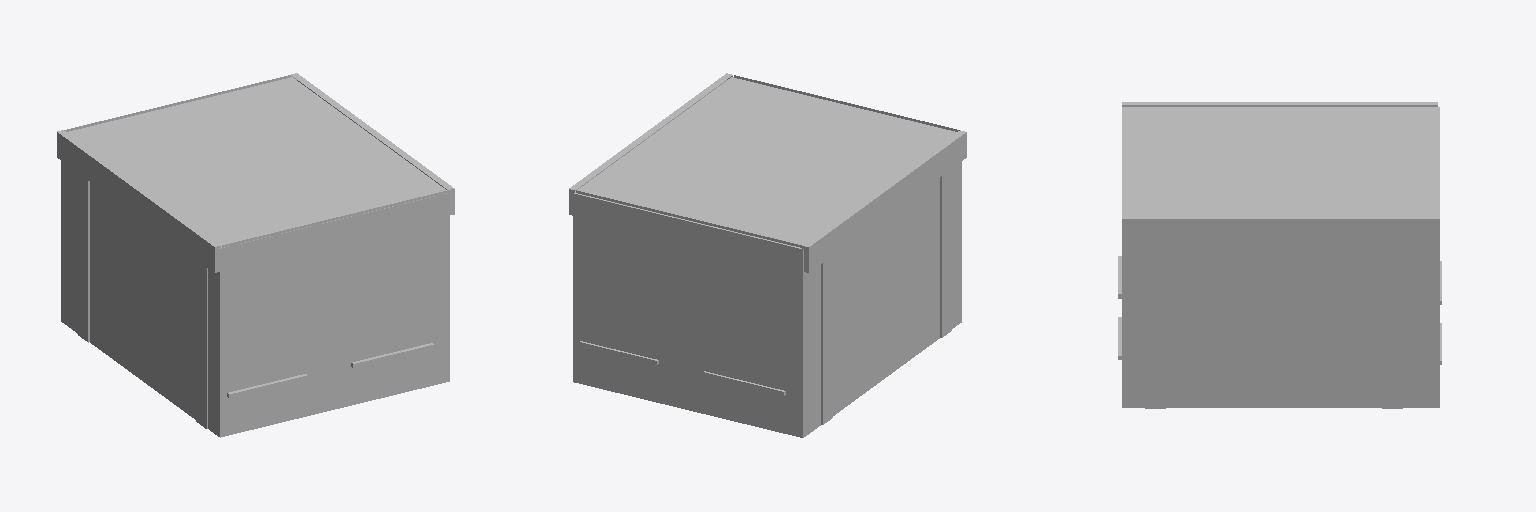
The model's file is Building5.obj.
The picture shows the model from 3 angles: view 1: azimuth 30°, elevation 25°; view 2: azimuth 150°, elevation 25°; view 3: azimuth 270°, elevation 25°; orthographic projection.
Parts seen in each view (by area): view 1: Building5_-col, TCom_Shops0220_S, TCom_Shops0148_S, TCom_Shops0148_S.001; view 2: Building5_-col, TCom_Shops0220_S, TCom_Shops0148_S.001, TCom_Shops0148_S; view 3: Building5_-col, TCom_Shops0220_S.
Part boxes in pixels (x1,y1,x2,y2): Building5_-col: (61,77,449,437); TCom_Shops0220_S: (57,73,454,428); TCom_Shops0148_S: (222,190,447,398); TCom_Shops0148_S.001: (64,75,289,131); Building5_-col: (573,77,961,437); TCom_Shops0220_S: (569,73,966,424); TCom_Shops0148_S.001: (576,190,801,395); TCom_Shops0148_S: (734,75,959,131); Building5_-col: (1122,107,1439,407); TCom_Shops0220_S: (1122,102,1437,408).
Bounding box in the file's own units: 5.25 × 4 × 6.15.